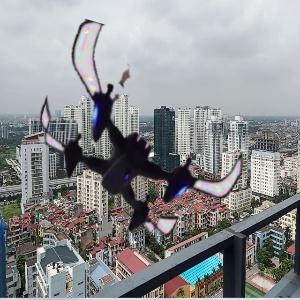drone: (31, 40, 250, 259)
